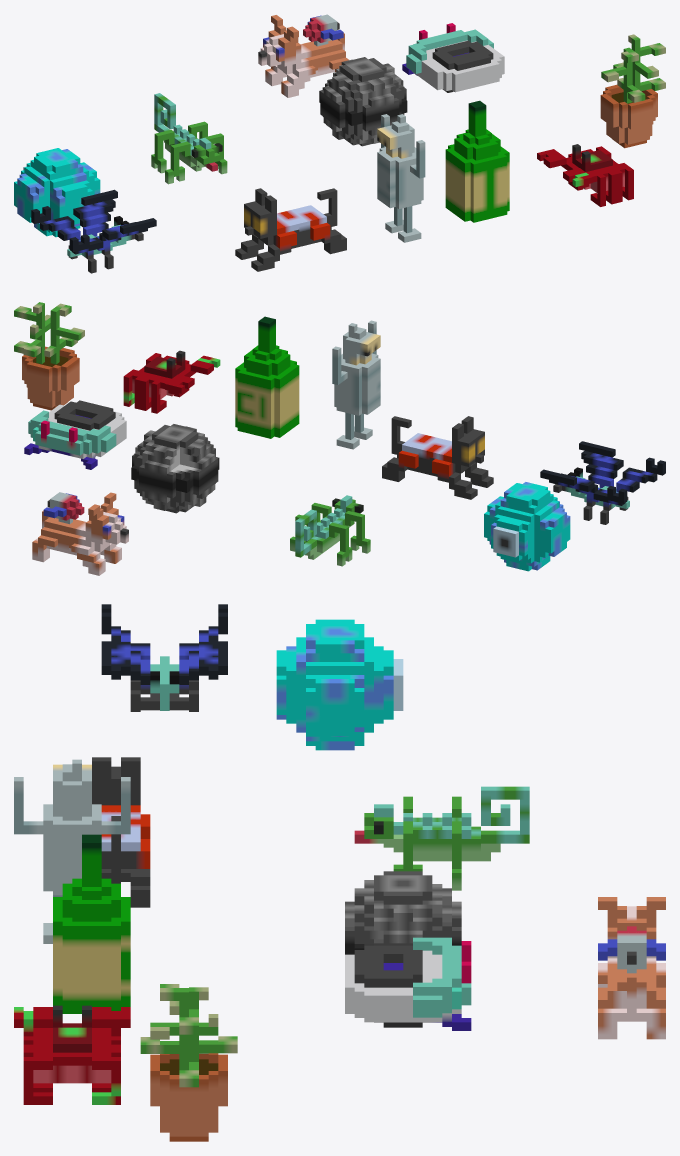
Rendered from characters.dae.
3 views of the same model, one above another, from view 1: azimuth 30°, elevation 25°; view 2: azimuth 150°, elevation 25°; view 3: azimuth 270°, elevation 25° (orthographic). The views are drawn at different scales.
Parts seen in each view (by area): view 1: cone, deathstar, cat, vacuumrobot, leonplant, robotcogi, bender, minimonster, butterfly, chameleon, crab; view 2: deathstar, minimonster, cone, cat, robotcogi, leonplant, bender, vacuumrobot, butterfly, chameleon, crab; view 3: minimonster, cone, vacuumrobot, leonplant, crab, chameleon, robotcogi, butterfly, bender, deathstar, cat.
Part boxes in pixels (x1,y1,x2,y2): cone: (445,100,509,222); deathstar: (319,57,407,146); cat: (235,188,346,271); vacuumrobot: (402,23,504,92); leonplant: (600,34,665,148); robotcogi: (258,14,348,97); bender: (377,114,425,242); minimonster: (14,148,100,237); butterfly: (31,189,156,273); chameleon: (151,93,227,184); crab: (537,144,633,206); deathstar: (131,424,219,513); minimonster: (484,482,570,571); cone: (235,316,299,438); cat: (382,416,493,499); robotcogi: (32,492,128,575); leonplant: (14,302,84,410); bender: (332,320,380,449); vacuumrobot: (24,400,126,469); butterfly: (540,441,665,524); chameleon: (290,495,370,566); crab: (123,350,220,413); minimonster: (276,619,403,750); cone: (53,834,130,1013); vacuumrobot: (345,937,471,1030); leonplant: (140,984,237,1141); crab: (14,1005,130,1104); chameleon: (354,786,529,890); robotcogi: (598,897,665,1039); butterfly: (101,604,227,711); bender: (14,759,130,943); deathstar: (345,871,461,954); cat: (92,757,150,907).
Size of the model in its own units: 111 by 21 by 67.
